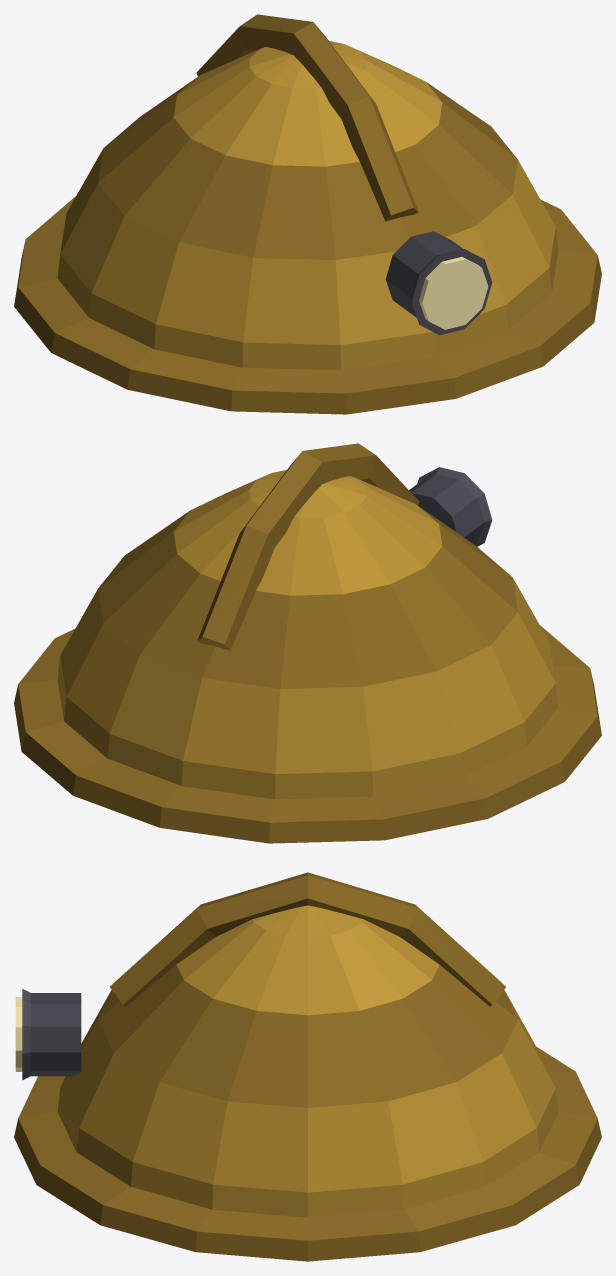
Rendered from wear_miner_helmet.glb.
3 views of the same model, one above another, from view 1: azimuth 30°, elevation 25°; view 2: azimuth 150°, elevation 25°; view 3: azimuth 270°, elevation 25° (orthographic).
Visible parts, largest first — view 1: wear_miner_helmet; view 2: wear_miner_helmet; view 3: wear_miner_helmet.
Part boxes in pixels (x1,y1,x2,y2): wear_miner_helmet: (14,14,601,414); wear_miner_helmet: (14,443,601,843); wear_miner_helmet: (14,872,601,1261).
Size of the model in its own units: 0.7 by 0.3478 by 0.7.
